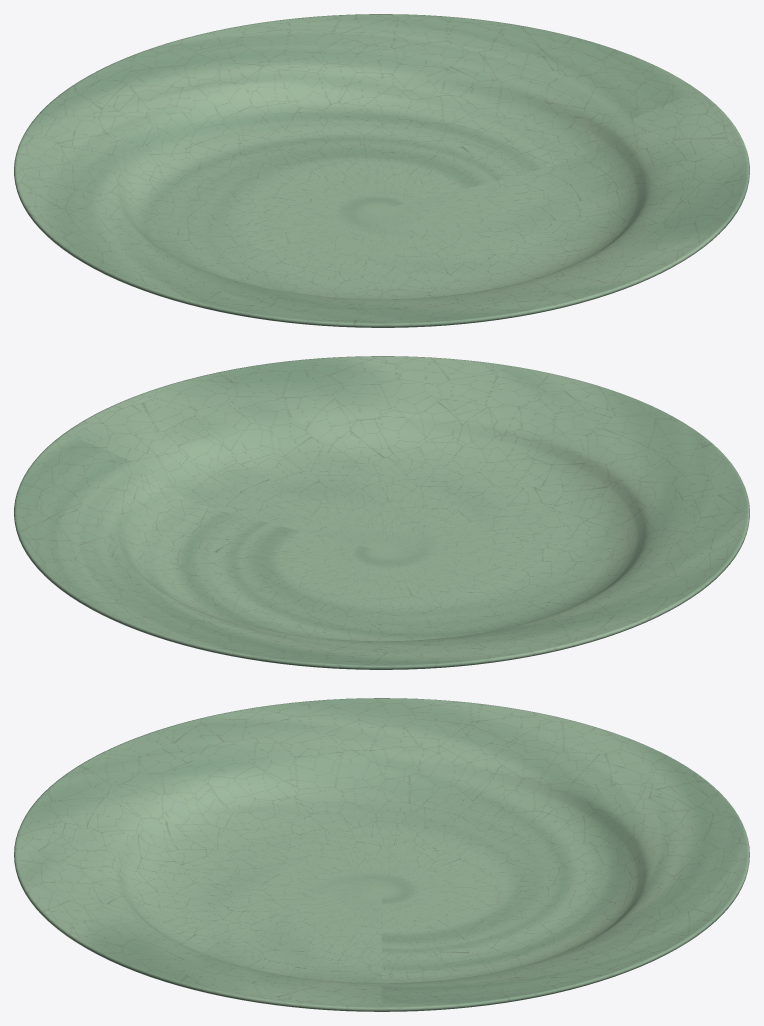
Rendered from celadon-plate.glb.
3 views of the same model, one above another, from view 1: azimuth 30°, elevation 25°; view 2: azimuth 150°, elevation 25°; view 3: azimuth 270°, elevation 25° (orthographic).
Parts seen in each view (by area): view 1: celadon-plate; view 2: celadon-plate; view 3: celadon-plate.
Part boxes in pixels (box(x1,y1,x2,y2)): celadon-plate: box(14, 14, 749, 327); celadon-plate: box(14, 356, 749, 669); celadon-plate: box(14, 698, 749, 1011).
Bounding box in the file's own units: 0.2707 × 0.0238 × 0.2707.
Materials: 1 (1 with a texture image).
